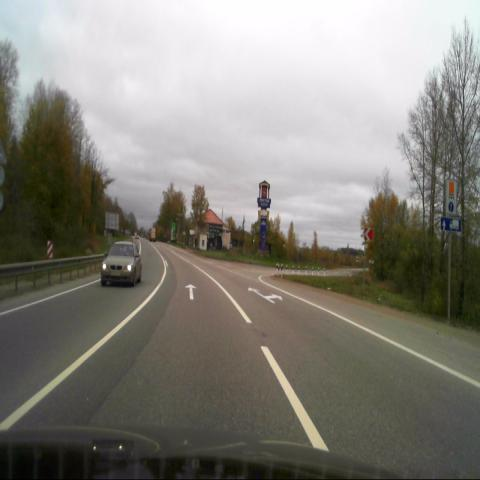6_15_1: (440, 217, 462, 232)
